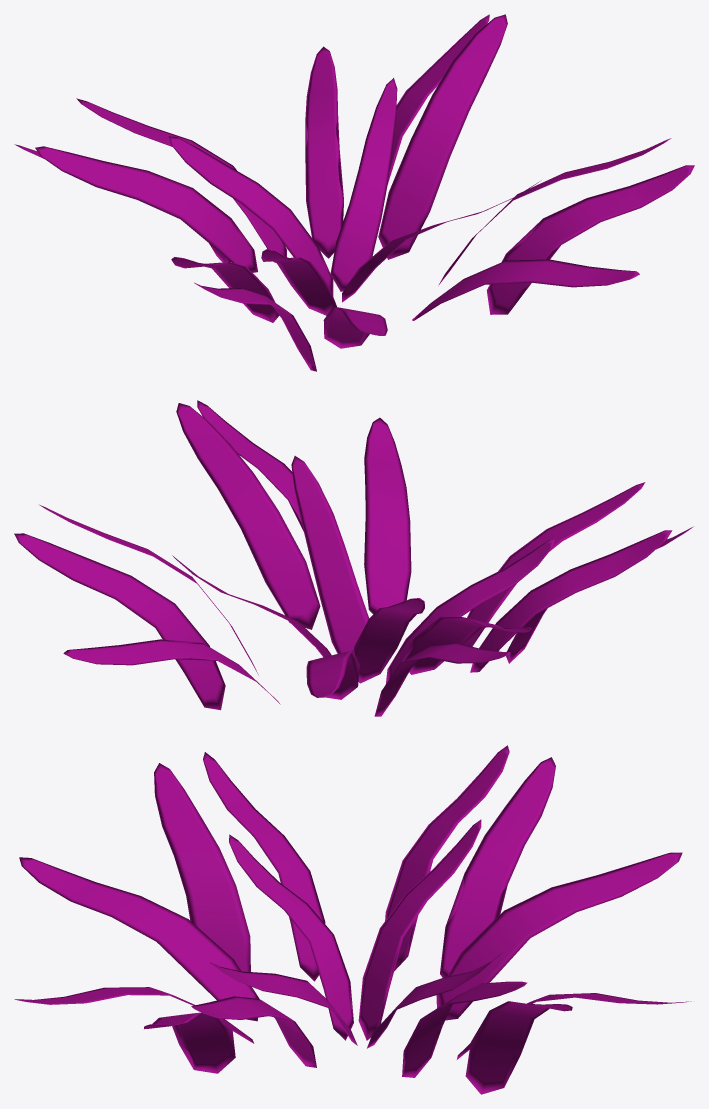
Rendered from grass1.fbx.
The picture shows the model from 3 angles, top to bottom: view 1: azimuth 30°, elevation 25°; view 2: azimuth 150°, elevation 25°; view 3: azimuth 270°, elevation 25°; orthographic projection. The views are drawn at different scales.
Parts seen in each view (by area): view 1: Plane; view 2: Plane; view 3: Plane.
Boxes of the visible parts, x1,y1,x2,y2 form: Plane: [14, 14, 694, 371]; Plane: [14, 400, 693, 716]; Plane: [14, 745, 691, 1094].
Bounding box in the file's own units: 13.04 × 4.5 × 14.34.
